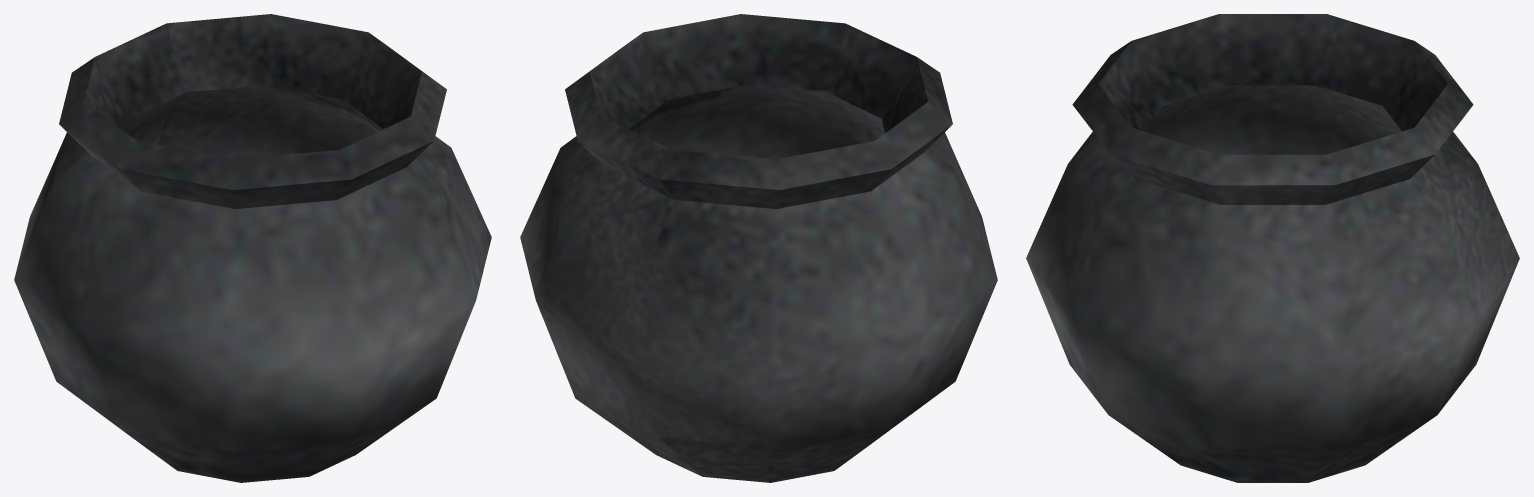
File: Cauldron01.fbx
3 views of the same model, side by side, from view 1: azimuth 30°, elevation 25°; view 2: azimuth 150°, elevation 25°; view 3: azimuth 270°, elevation 25° (orthographic).
Parts seen in each view (by area): view 1: Cauldron01; view 2: Cauldron01; view 3: Cauldron01.
Part boxes in pixels (x1=…): Cauldron01: x1=14, y1=14, x2=491, y2=482; Cauldron01: x1=520, y1=14, x2=997, y2=482; Cauldron01: x1=1026, y1=14, x2=1519, y2=482.
Size of the model in its own units: 206 by 172 by 217.
